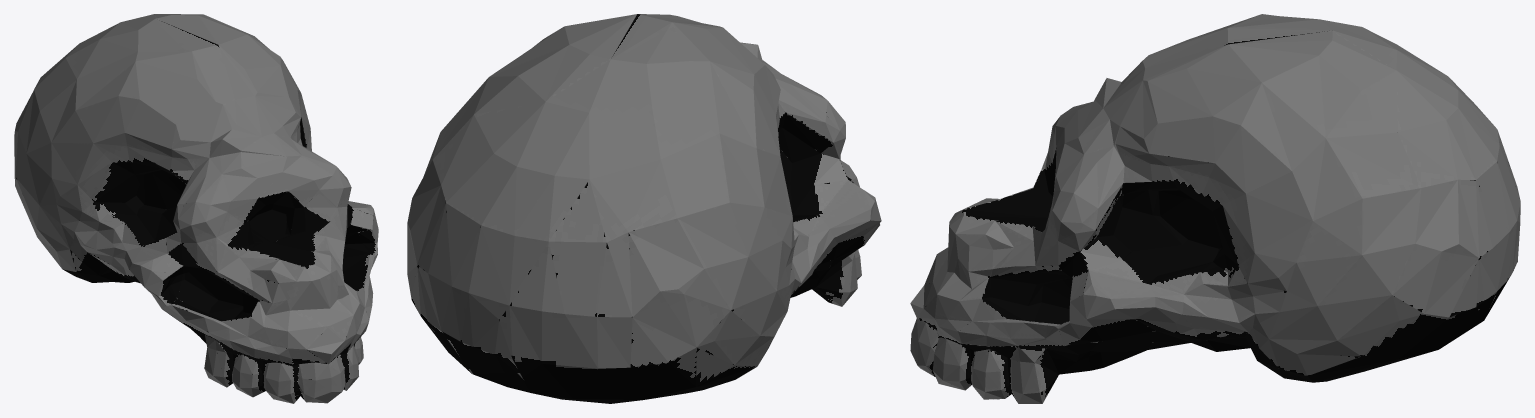
The picture shows the model from 3 angles, left to right: view 1: azimuth 30°, elevation 25°; view 2: azimuth 150°, elevation 25°; view 3: azimuth 270°, elevation 25°; orthographic projection. The views are drawn at different scales.
Visible parts, largest first — view 1: OBJ0c3; view 2: OBJ0c3; view 3: OBJ0c3.
Boxes of the visible parts, x1,y1,x2,y2 form: OBJ0c3: (14,14,378,403); OBJ0c3: (407,14,881,403); OBJ0c3: (910,14,1520,403).
Bounding box in the file's own units: 0.1498 × 0.1475 × 0.2441.
Materials: 1 (1 with a texture image).
